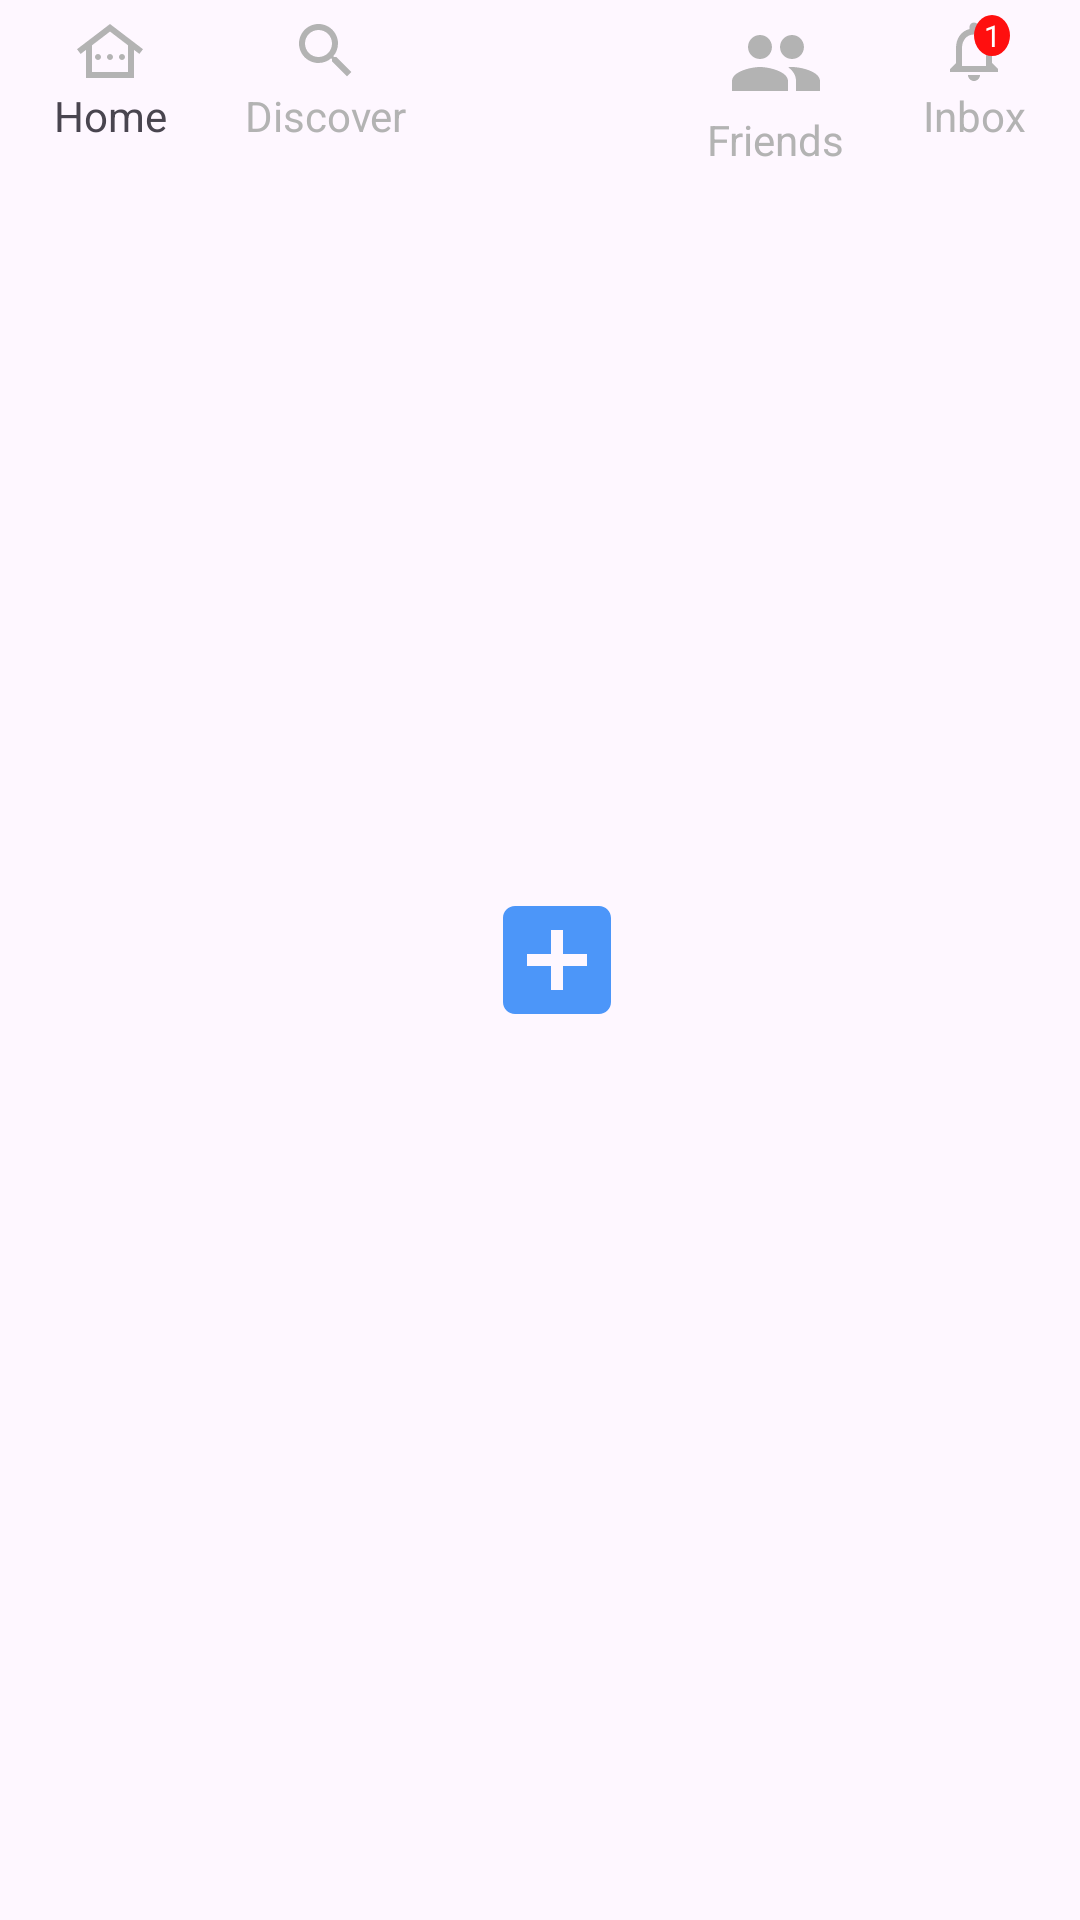

Screen size 1080 × 1920. Icon name, then its box in pixels as (x1, y1, x2, y2):
add box: (503, 906, 611, 1014)
notifications none: (950, 15, 1010, 81)
search: (299, 24, 351, 76)
